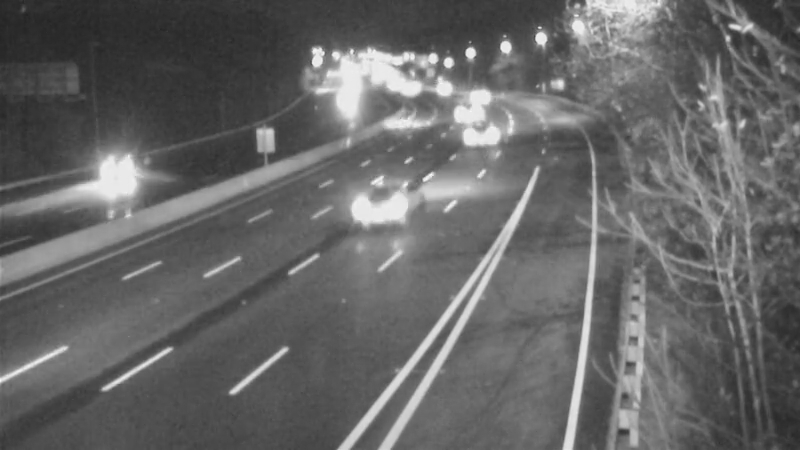vehicle: (330, 166, 410, 246), (75, 132, 155, 212), (421, 62, 471, 112), (458, 73, 508, 123), (440, 88, 490, 138), (363, 98, 413, 148), (457, 106, 507, 156)
